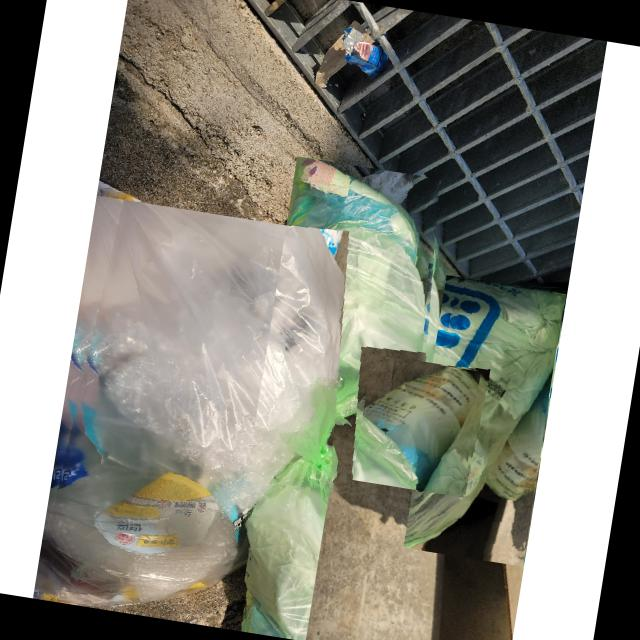general_trashbag: (266, 156, 432, 490), (405, 279, 564, 548), (363, 367, 480, 490)
other_trashbag: (37, 199, 367, 607)
